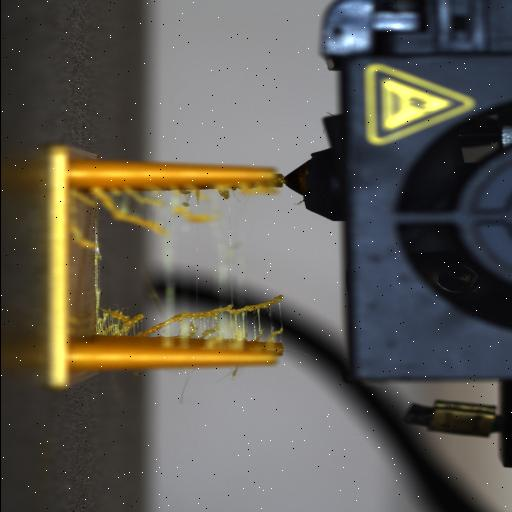stringing: (76, 184, 294, 396)
